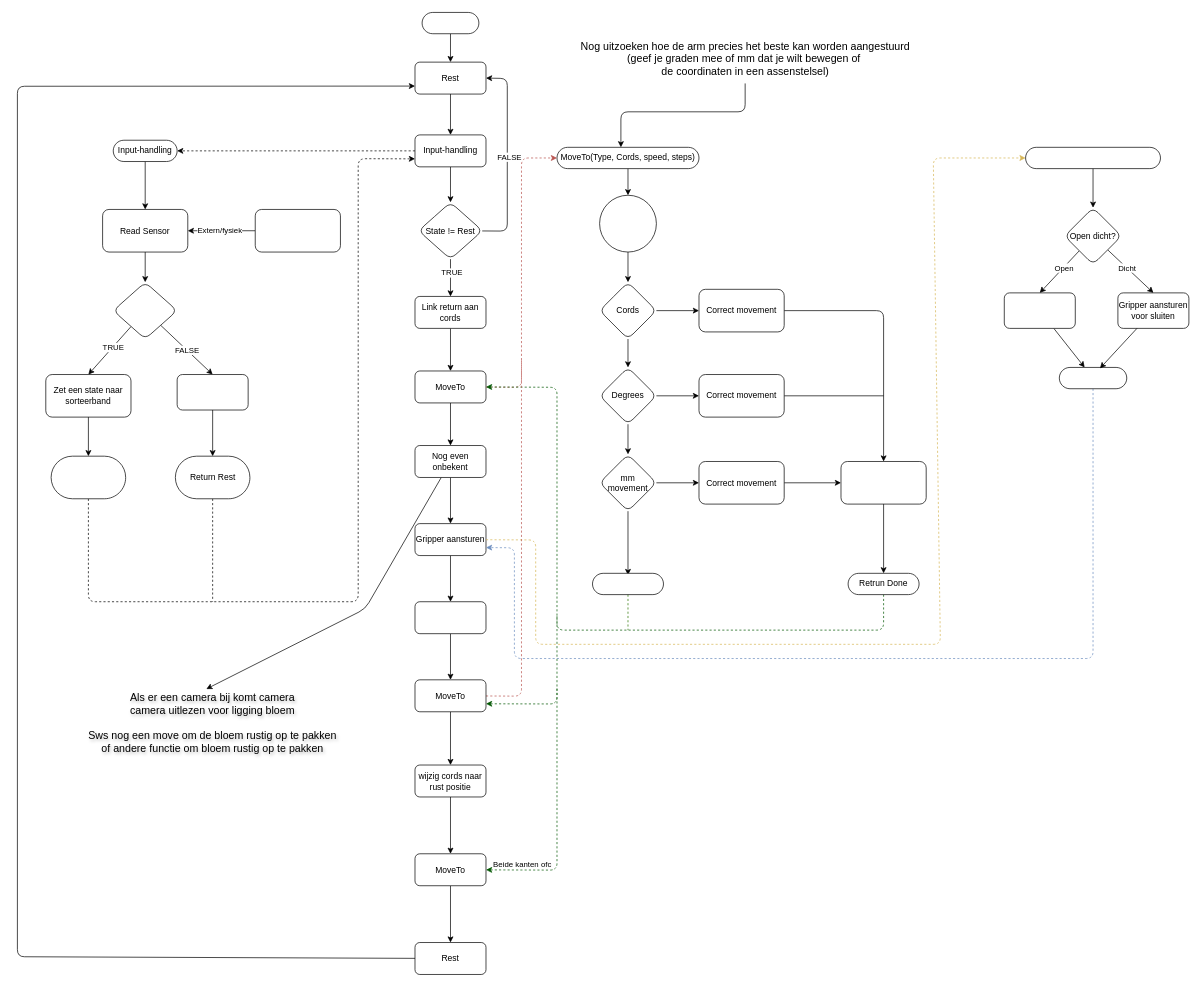
Image size: 1201x987. Some labels were removed from this diagram. Each missing label, with the centre of its shape:
"Gripper aansturen voor openen" belongs at (1039,310).
"Gripper aansturen(open-dicht)" belongs at (1092,158).
"Movement done" belongs at (883,482).
"Retrun Error" belongs at (627,584).
"Return sorteerband" belongs at (88,477).
"Return succes" belongs at (1093,378).
"Sensor" belongs at (297,230).
"Sensor high" belongs at (145,310).
"Start" belongs at (450,23).
"Switch" belongs at (627,223).
"Wijzig cords aan eindstation" belongs at (450,617).
"Zet state naar rest" belongs at (212,392).
